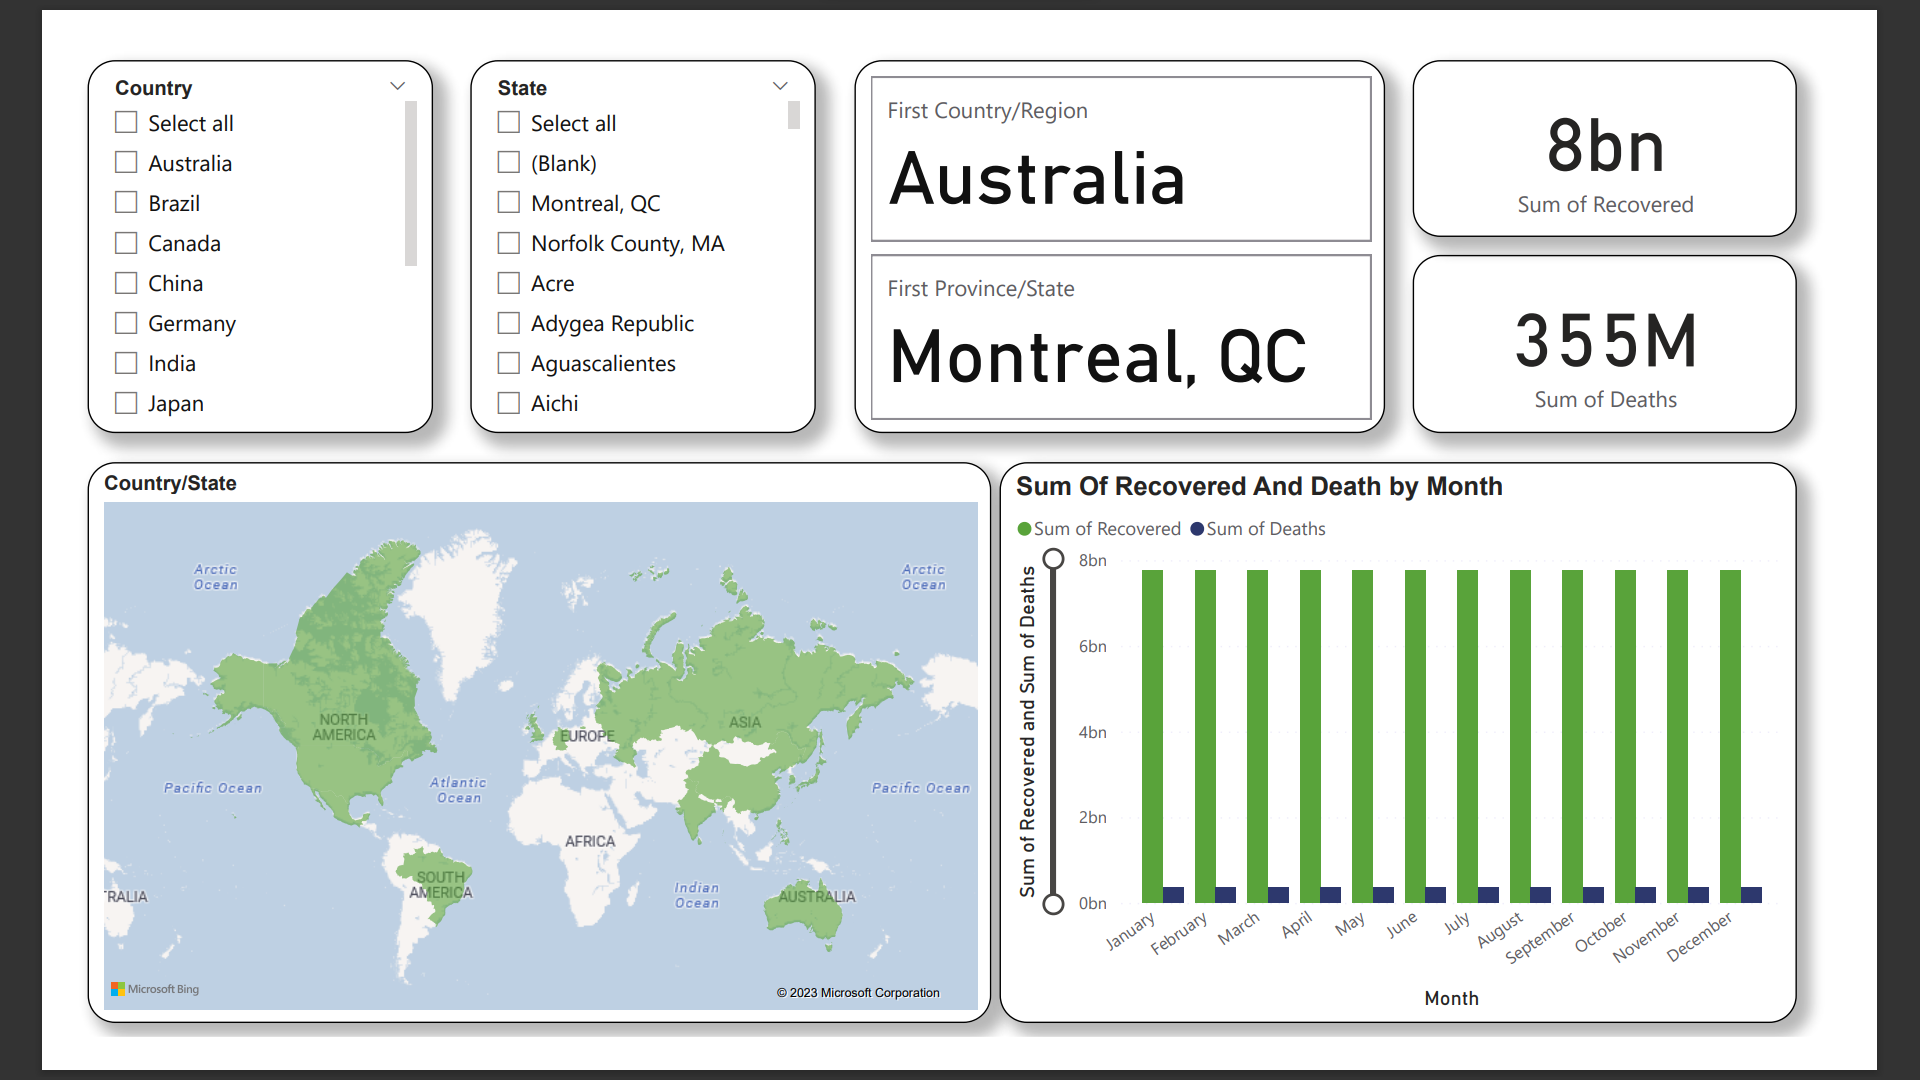

Layout of this report page (visuals, bound fields, positions):
{"tool":"powerbi","page":{"name":"Page 2","canvas":[1280,720],"ordinal":1},"visuals":[{"type":"filledMap","title":"Country/State","fields":{"Category":["covid_19_data-dataset.Country/Region"]},"box":[8.8,303.8,653.8,406.2],"z":0},{"type":"card","fields":{"Values":["Sum(covid_19_data-dataset.Deaths)"]},"box":[967.5,153.8,278.8,128.8],"z":1000},{"type":"card","fields":{"Values":["Sum(covid_19_data-dataset.Recovered)"]},"box":[967.5,12.5,278.8,128.8],"z":2000},{"type":"slicer","fields":{"Values":["covid_19_data-dataset.Country/Region"]},"box":[8.8,12.5,250,270],"z":3000},{"type":"slicer","fields":{"Values":["covid_19_data-dataset.Province/State"]},"box":[286.2,12.5,250,270],"z":4000},{"type":"cardVisual","fields":{"Data":["Min(covid_19_data-dataset.Country/Region)","Min(covid_19_data-dataset.Province/State)"]},"box":[563.8,12.5,383.8,270],"z":5000},{"type":"clusteredColumnChart","title":"Sum Of Recovered And Death by Month","fields":{"Category":["complete.Date.Variation.Date Hierarchy.Month"],"Y":["Sum(covid_19_data-dataset.Recovered)","Sum(covid_19_data-dataset.Deaths)"]},"box":[668.8,303.8,577.5,406.2],"z":6000}]}

Visuals, with their boxes in screenshot pixels (x1, y1, x2, y2), scaled from the page's 1280x720 canvas onto the 1920x1080 screenshot:
"Country/State" filledMap: l=13, t=456, r=994, b=1065
card - Sum(covid_19_data-dataset.Deaths): l=1451, t=231, r=1869, b=424
card - Sum(covid_19_data-dataset.Recovered): l=1451, t=19, r=1869, b=212
slicer - covid_19_data-dataset.Country/Region: l=13, t=19, r=388, b=424
slicer - covid_19_data-dataset.Province/State: l=429, t=19, r=804, b=424
cardVisual - Min(covid_19_data-dataset.Country/Region) x Min(covid_19_data-dataset.Province/State): l=846, t=19, r=1421, b=424
"Sum Of Recovered And Death by Month" clusteredColumnChart: l=1003, t=456, r=1869, b=1065
